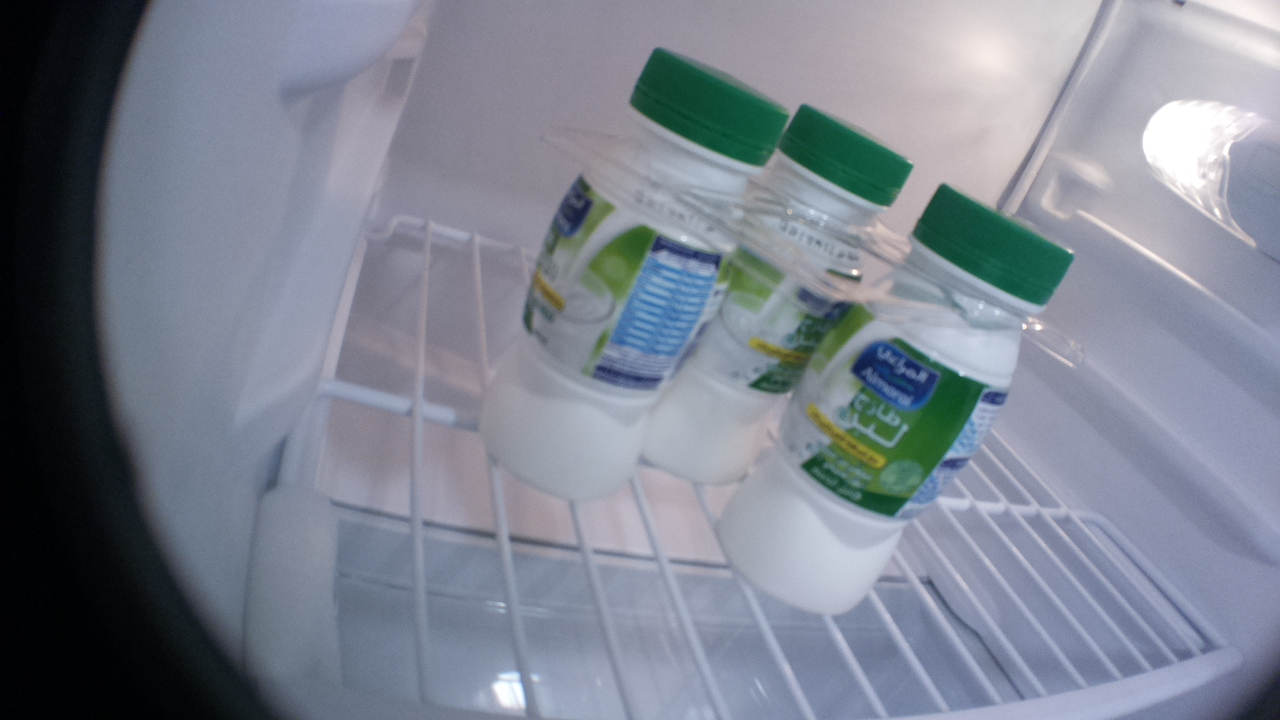laban: (713, 180, 1072, 615), (478, 45, 790, 499), (639, 102, 913, 485)
